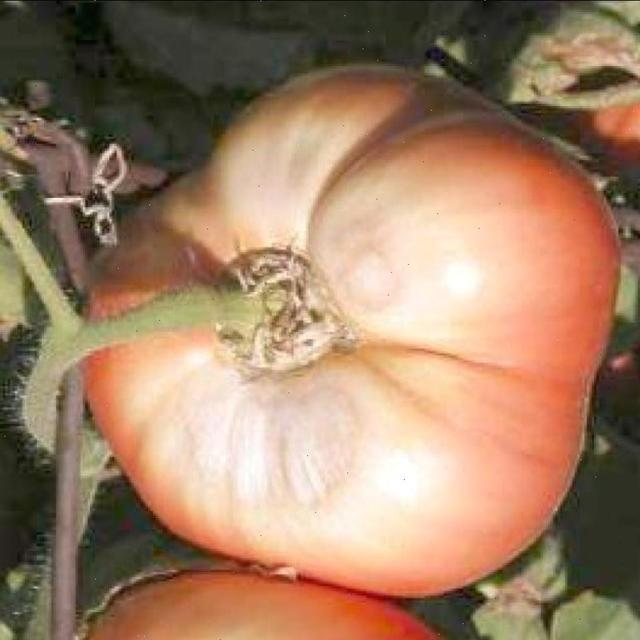Sunscald Fruit: (90, 88, 318, 340)
